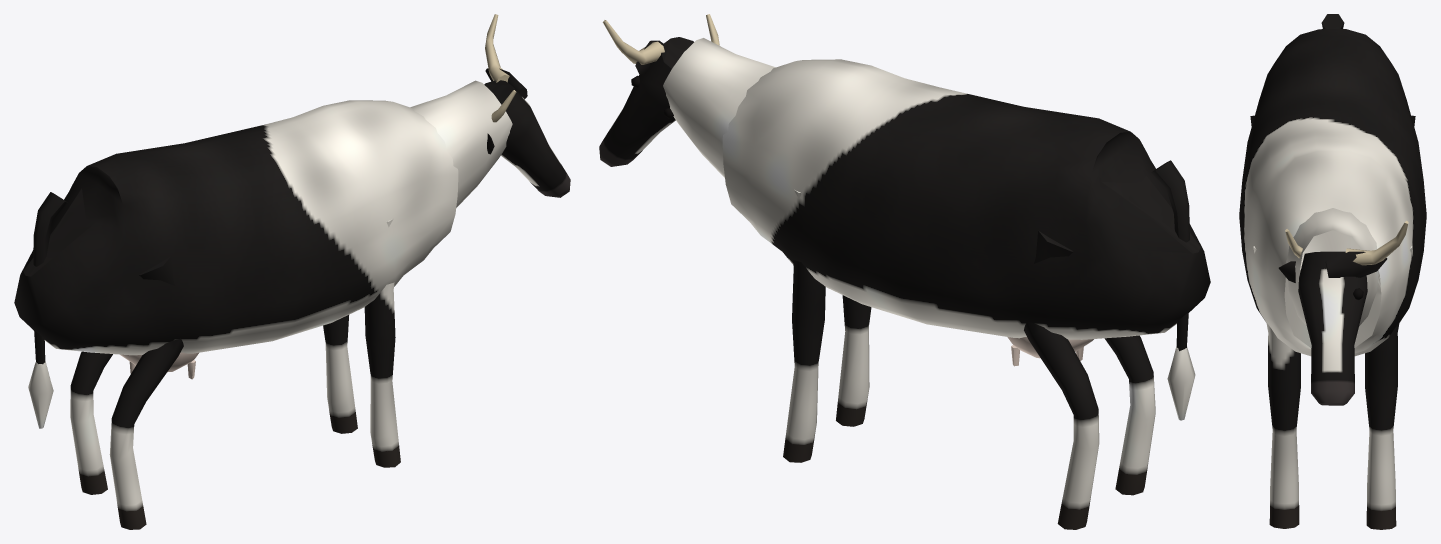
The model's file is tpl_life_herd_1750_cattle_blackpied_stand_h.glb.
The picture shows the model from 3 angles, left to right: view 1: azimuth 30°, elevation 25°; view 2: azimuth 150°, elevation 25°; view 3: azimuth 270°, elevation 25°; orthographic projection. The views are drawn at different scales.
Parts seen in each view (by area): view 1: tpl_life_herd_1750_cattle_blackpied_stand_h; view 2: tpl_life_herd_1750_cattle_blackpied_stand_h; view 3: tpl_life_herd_1750_cattle_blackpied_stand_h.
Part boxes in pixels (bbox=[...]): tpl_life_herd_1750_cattle_blackpied_stand_h: bbox=[14, 14, 570, 529]; tpl_life_herd_1750_cattle_blackpied_stand_h: bbox=[599, 14, 1210, 529]; tpl_life_herd_1750_cattle_blackpied_stand_h: bbox=[1239, 14, 1426, 529].
Bounding box in the file's own units: 2.34 × 1.51 × 0.6588.
Materials: 3 (1 with a texture image).
